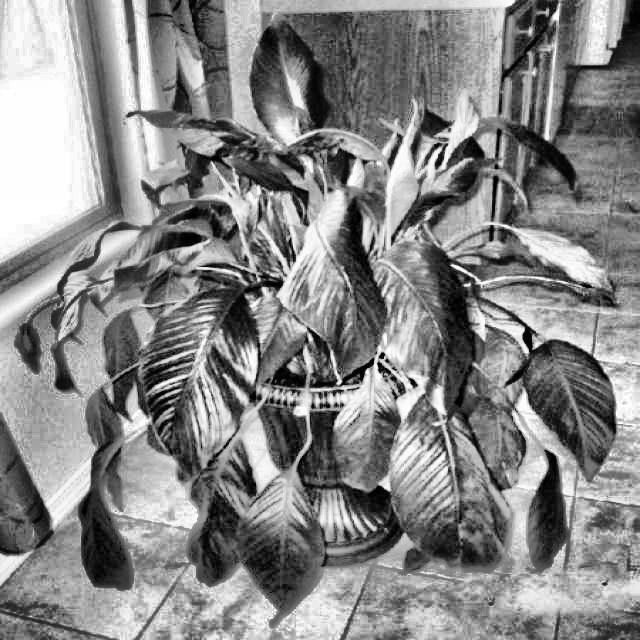plants: (24, 103, 619, 598), (502, 396, 590, 578), (221, 113, 386, 202)
